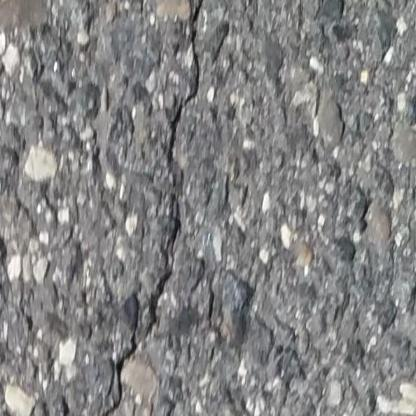Cracks: (165, 0, 210, 169), (99, 312, 143, 416), (148, 269, 176, 328), (169, 202, 185, 256)
